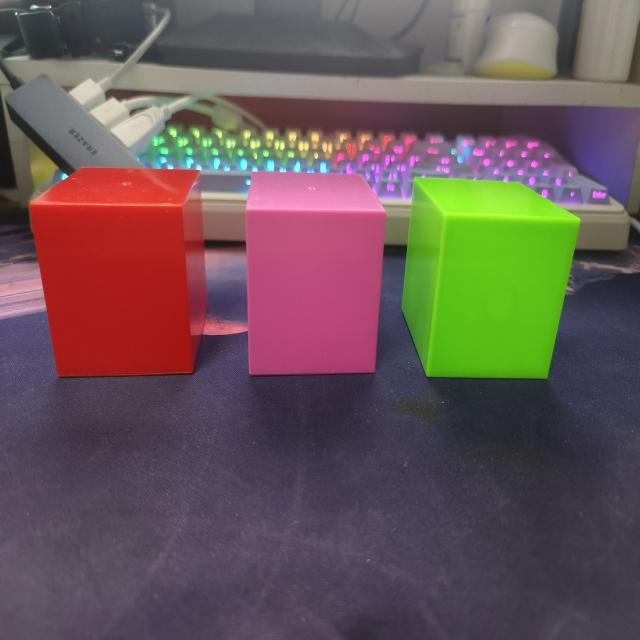green: (401, 176, 581, 382)
pink: (244, 172, 387, 380)
red: (28, 167, 198, 381)
